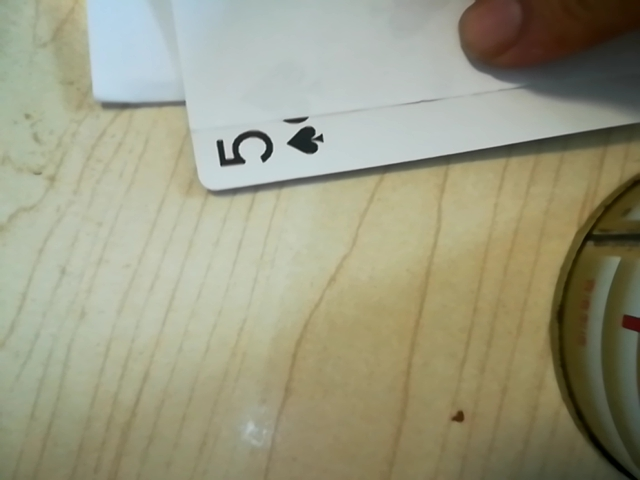ht 5: (204, 108, 332, 184)
